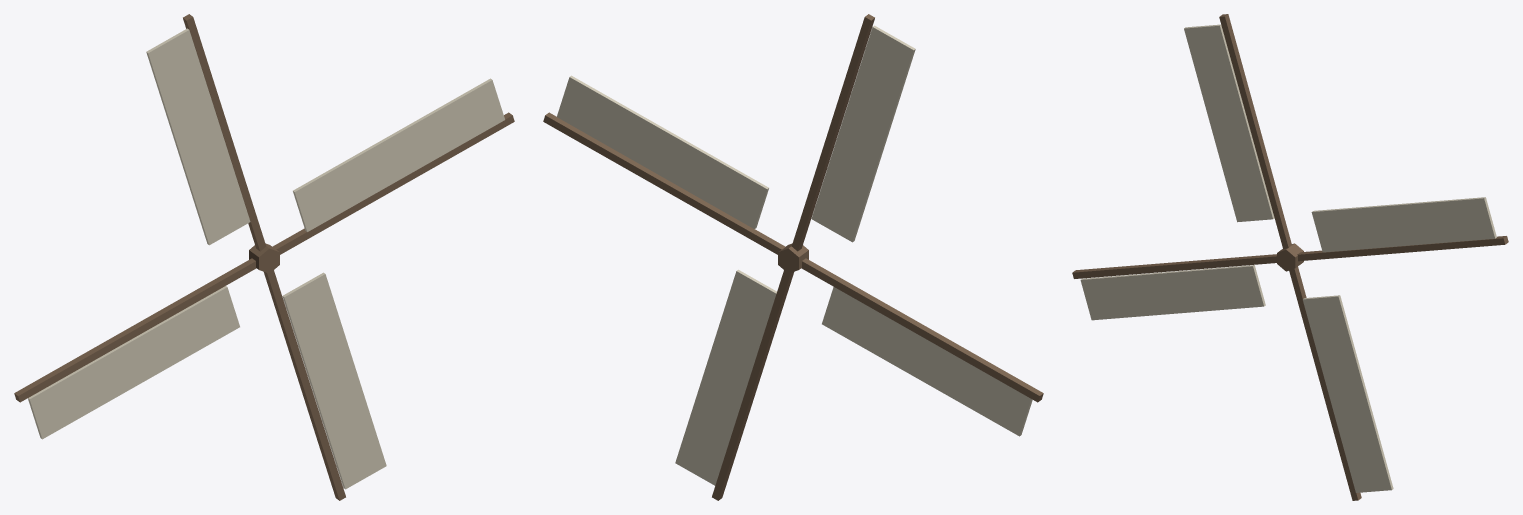
Rendered from windmill_sails.glb.
3 views of the same model, side by side, from view 1: azimuth 30°, elevation 25°; view 2: azimuth 150°, elevation 25°; view 3: azimuth 330°, elevation 25° (orthographic). The views are drawn at different scales.
Visible parts, largest first — view 1: windmill_sails; view 2: windmill_sails; view 3: windmill_sails.
Part boxes in pixels (<box>): windmill_sails: <box>14,14,514,500</box>; windmill_sails: <box>543,14,1043,500</box>; windmill_sails: <box>1072,14,1508,500</box>.
Size of the model in its own units: 0.5756 by 0.5756 by 0.02.
